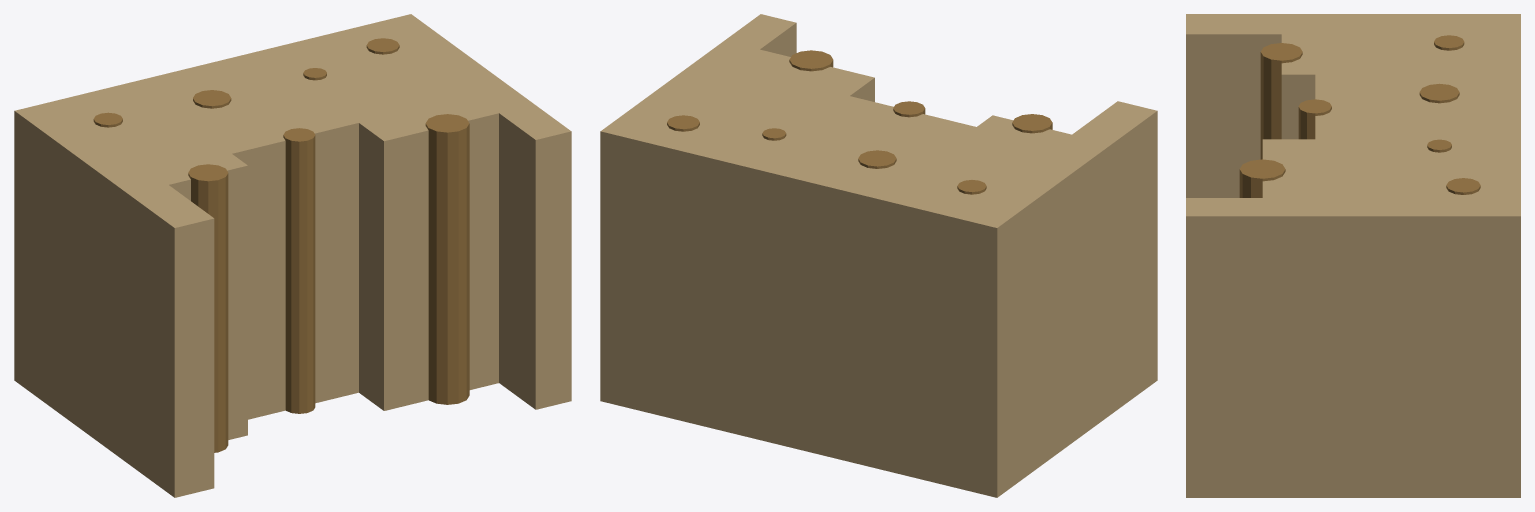
File: skolithos-pipe-field.glb
3 views of the same model, side by side, from view 1: azimuth 30°, elevation 25°; view 2: azimuth 150°, elevation 25°; view 3: azimuth 270°, elevation 25° (orthographic). The views are drawn at different scales.
Parts seen in each view (by area): view 1: sectioned-host-sandstone; view 2: sectioned-host-sandstone; view 3: sectioned-host-sandstone.
Boxes of the visible parts, x1,y1,x2,y2 form: sectioned-host-sandstone: (14, 14, 571, 497); sectioned-host-sandstone: (600, 14, 1157, 497); sectioned-host-sandstone: (1186, 14, 1520, 497).
Size of the model in its own units: 0.1 by 0.0656 by 0.07.
